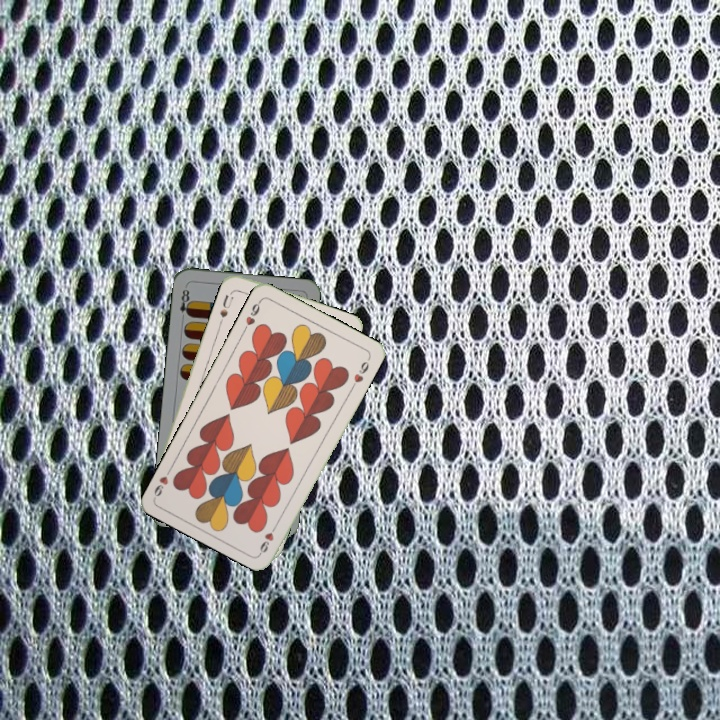E8: (176, 282, 194, 323)
H9: (256, 518, 281, 556), (240, 296, 264, 333)
SU: (216, 291, 236, 326)
